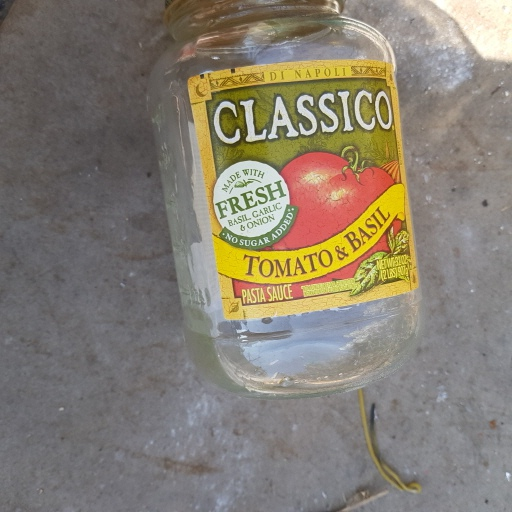Glass_5: (139, 2, 423, 400)
